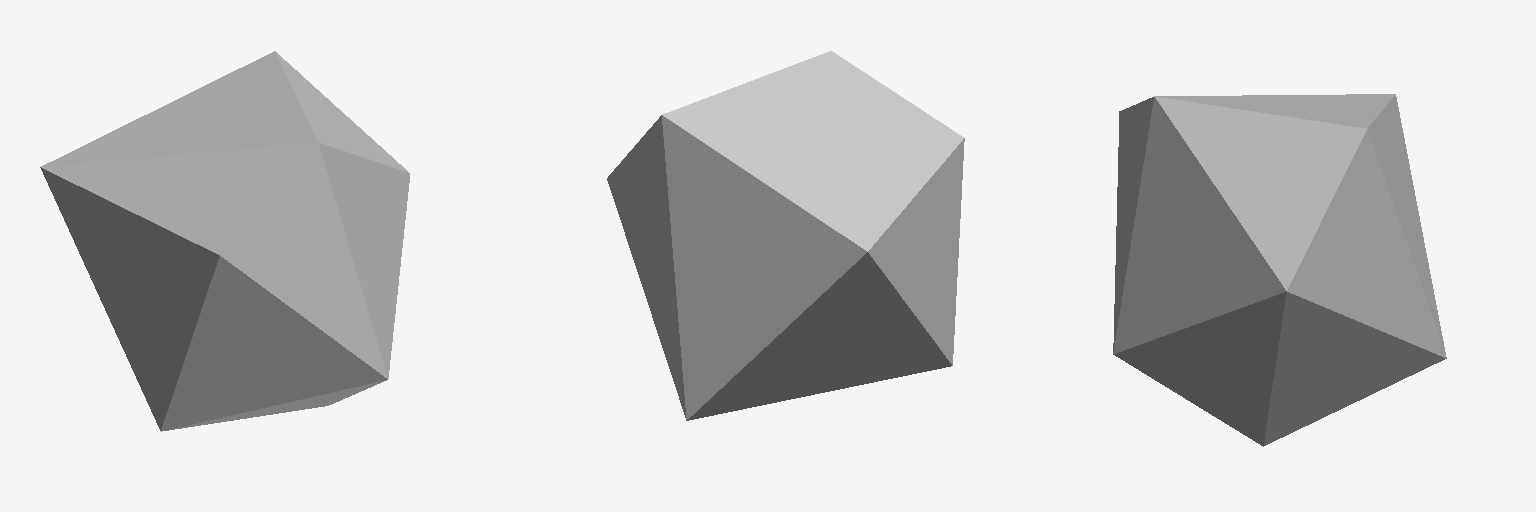
File: lodtest_lod-003.obj
The picture shows the model from 3 angles: view 1: azimuth 30°, elevation 25°; view 2: azimuth 150°, elevation 25°; view 3: azimuth 270°, elevation 25°; orthographic projection.
Parts seen in each view (by area): view 1: lodtest_lod-003_lodtest.004; view 2: lodtest_lod-003_lodtest.004; view 3: lodtest_lod-003_lodtest.004.
Boxes of the visible parts, box(x1,y1,x2,y2) form: lodtest_lod-003_lodtest.004: box(40, 51, 409, 431); lodtest_lod-003_lodtest.004: box(607, 51, 964, 420); lodtest_lod-003_lodtest.004: box(1113, 94, 1446, 446).
Size of the model in its own units: 1.96 by 1.9 by 1.8.